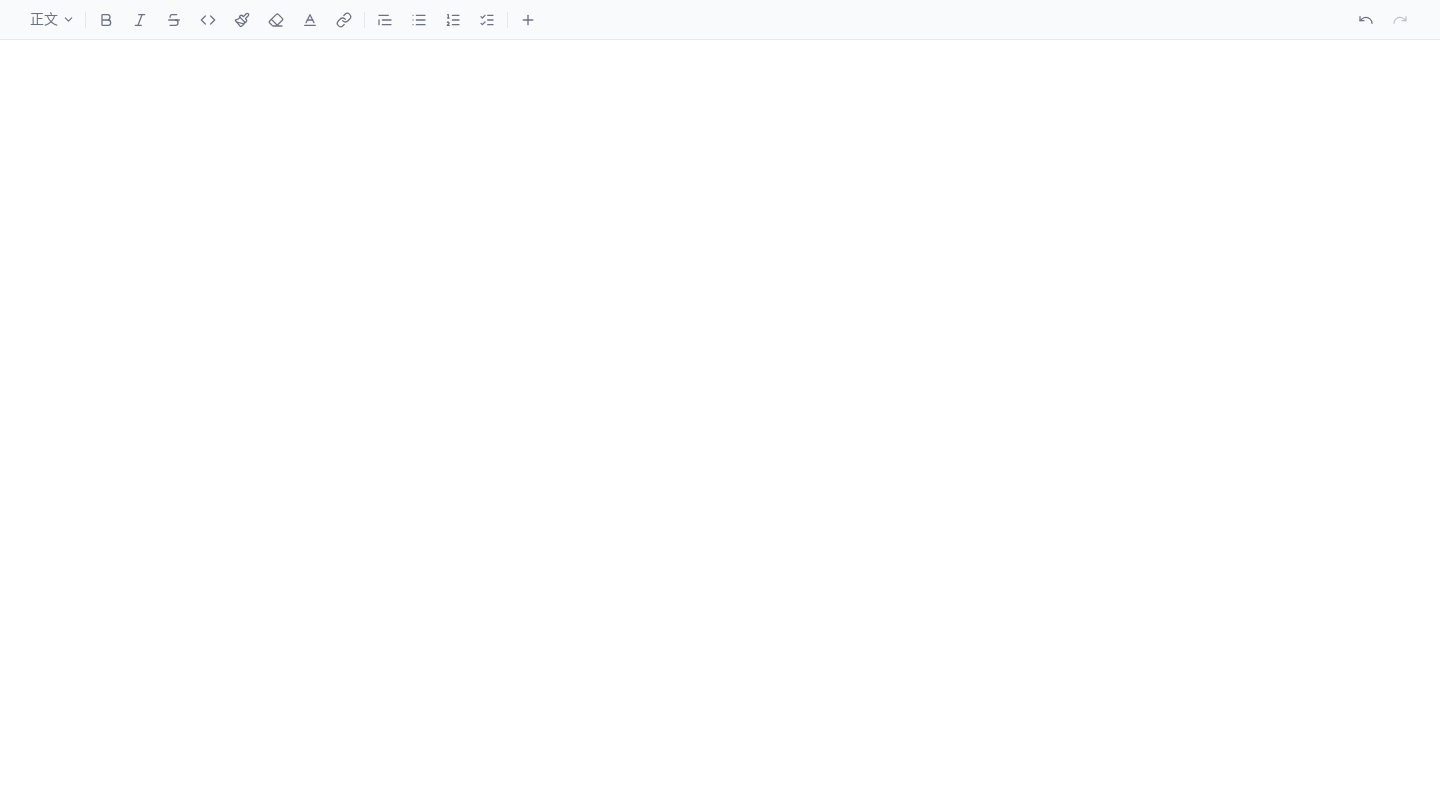
Scenario: RichTextToolbar / 链接 › 链接格式无效时提示错误且不写入
The width and height of the screenshot is (1440, 810).
Click the button named "链接" at coordinates (344, 20), box [328,4,360,36]
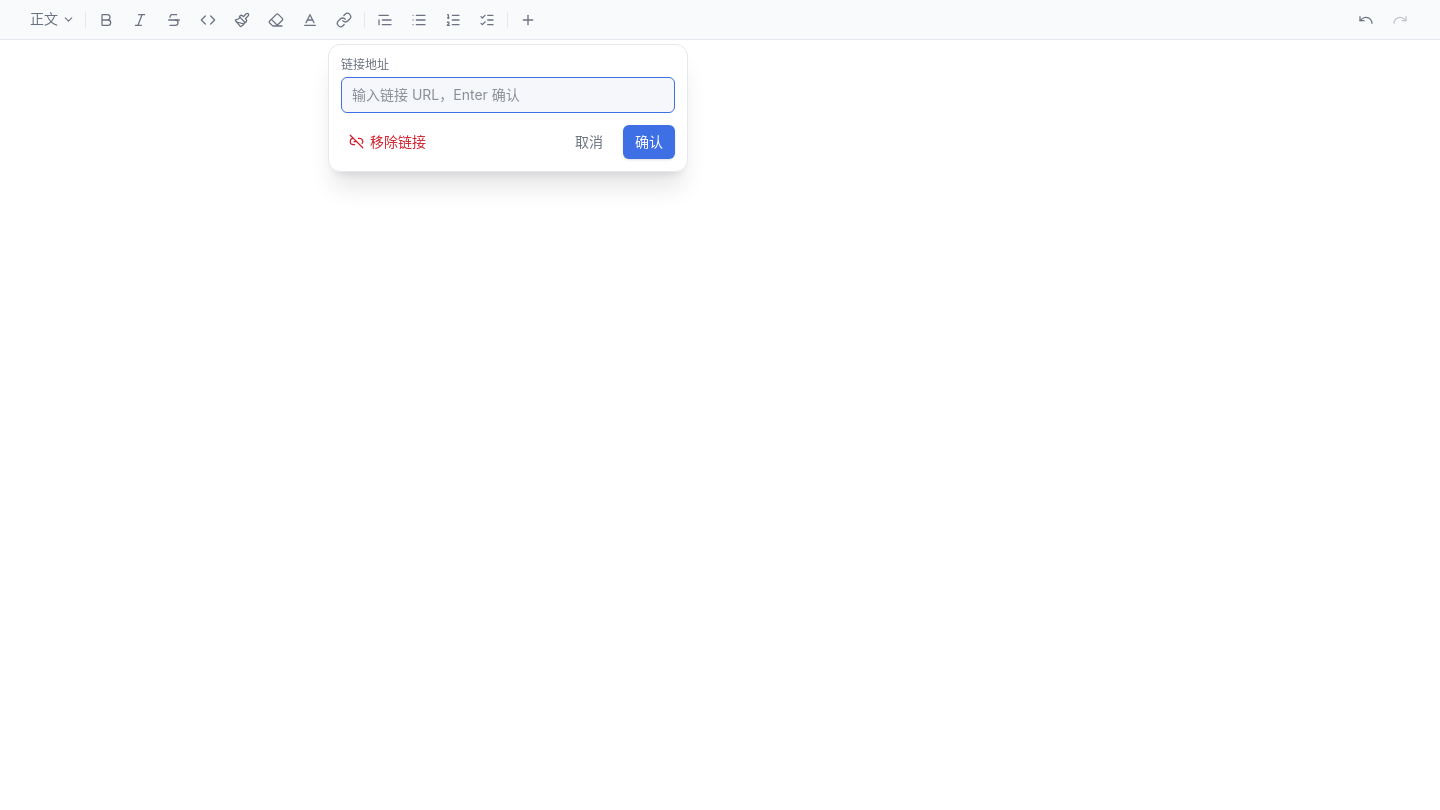
Type "not a url" into the field with placeholder "输入链接 URL，Enter 确认" at coordinates (508, 94), box [341,76,675,112]
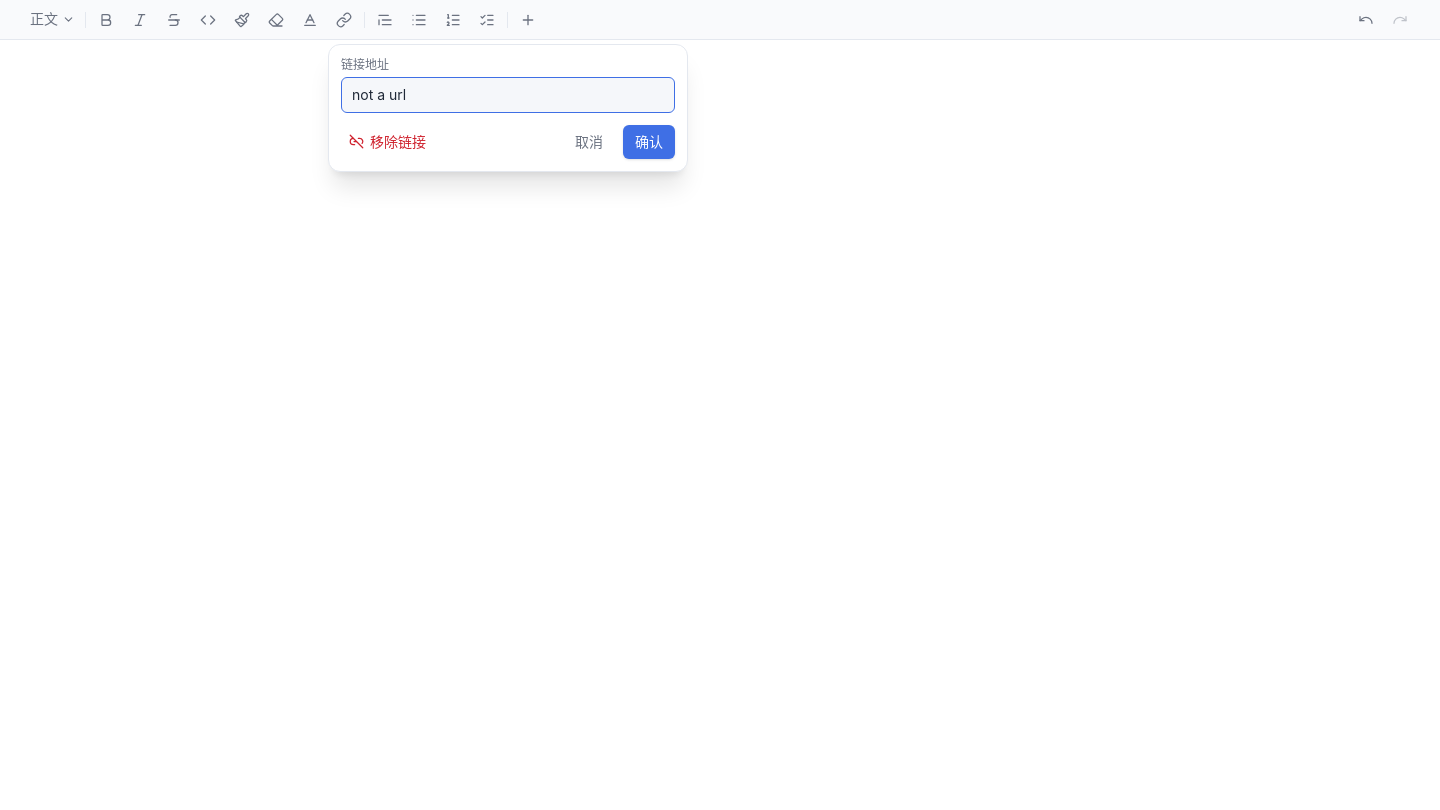
Press Enter in the field with placeholder "输入链接 URL，Enter 确认", box [341,76,675,112]
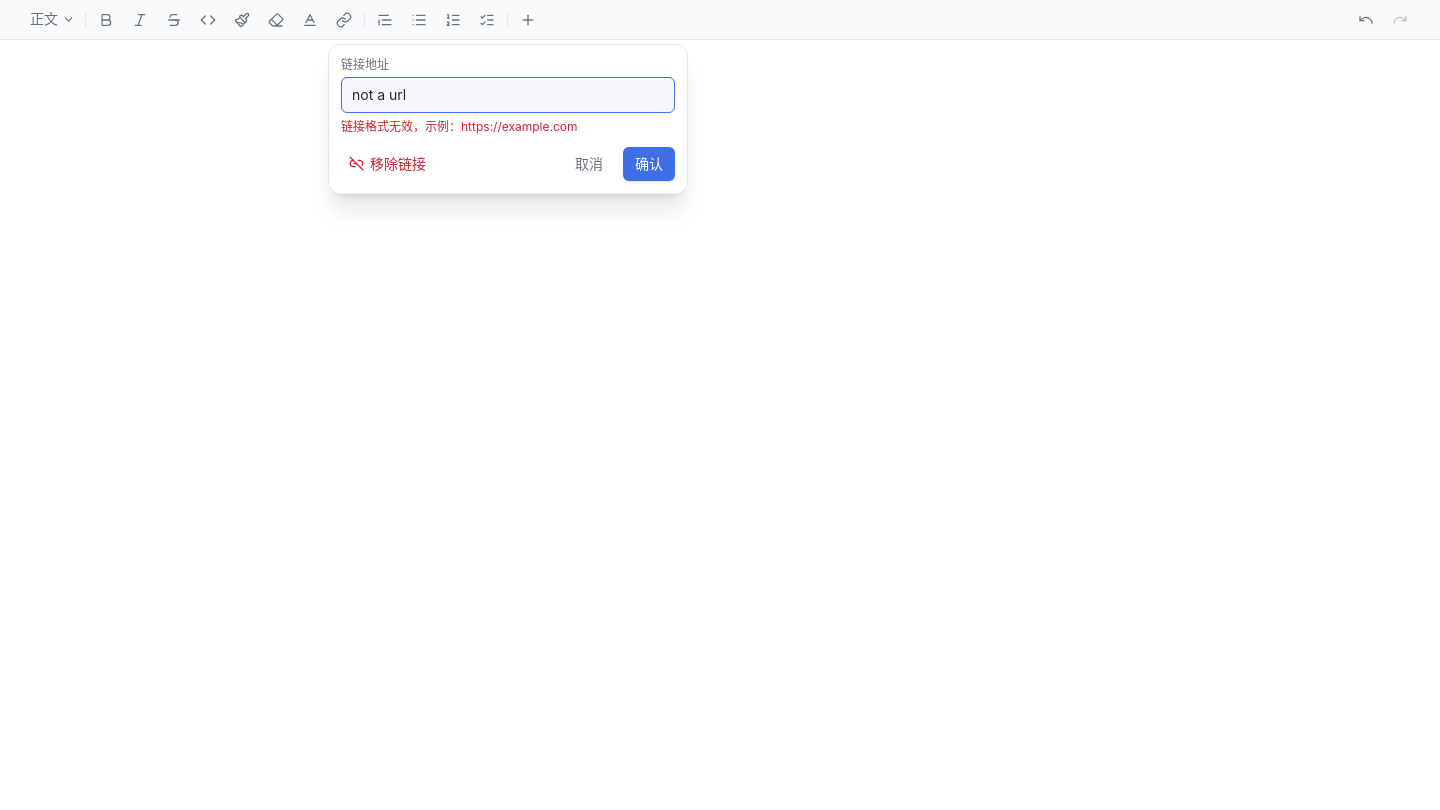
Check: the message shows "链接格式无效", box [341,118,578,134]
